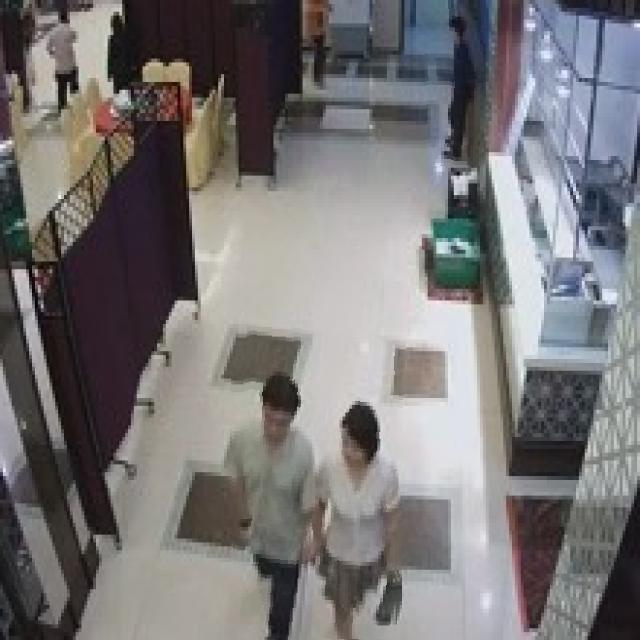Normal: (313, 337, 402, 640), (231, 327, 317, 640), (425, 9, 484, 166)
